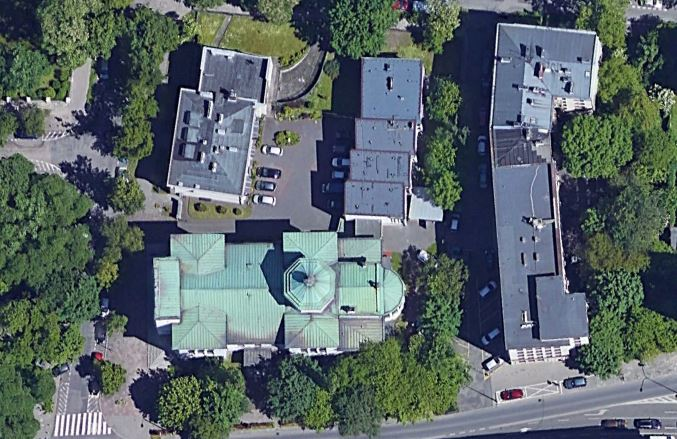block of flats: (482, 18, 607, 368), (161, 42, 276, 207), (336, 54, 426, 225)
church: (150, 226, 414, 359)
